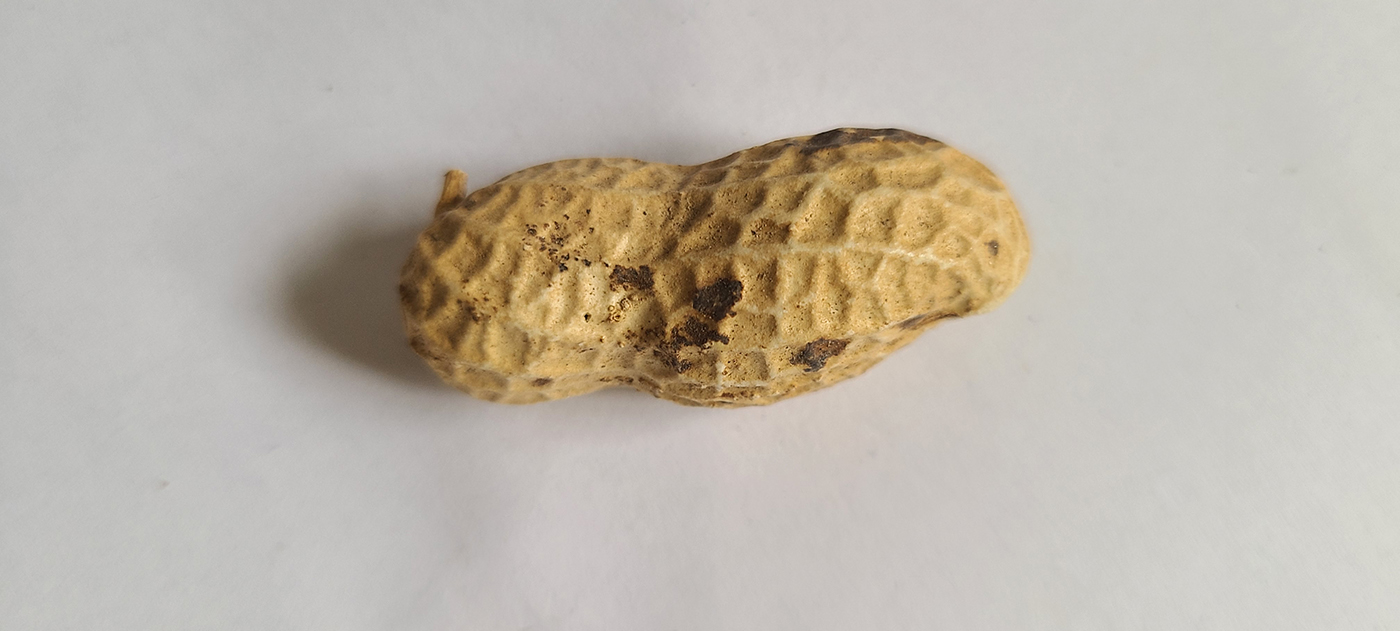h: (397, 126, 1030, 415)
